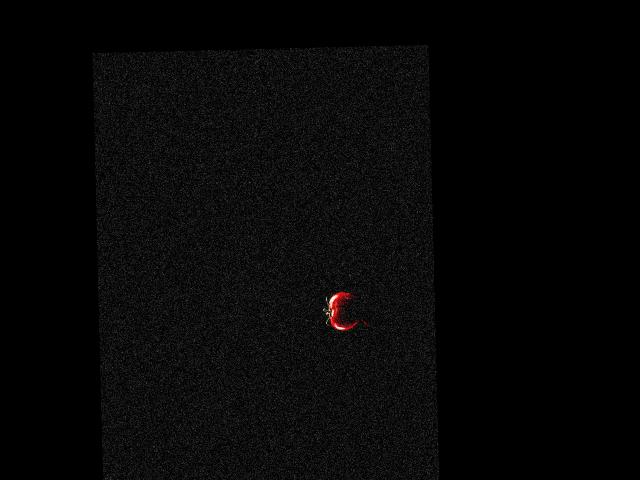tomato: (327, 291, 359, 330)
